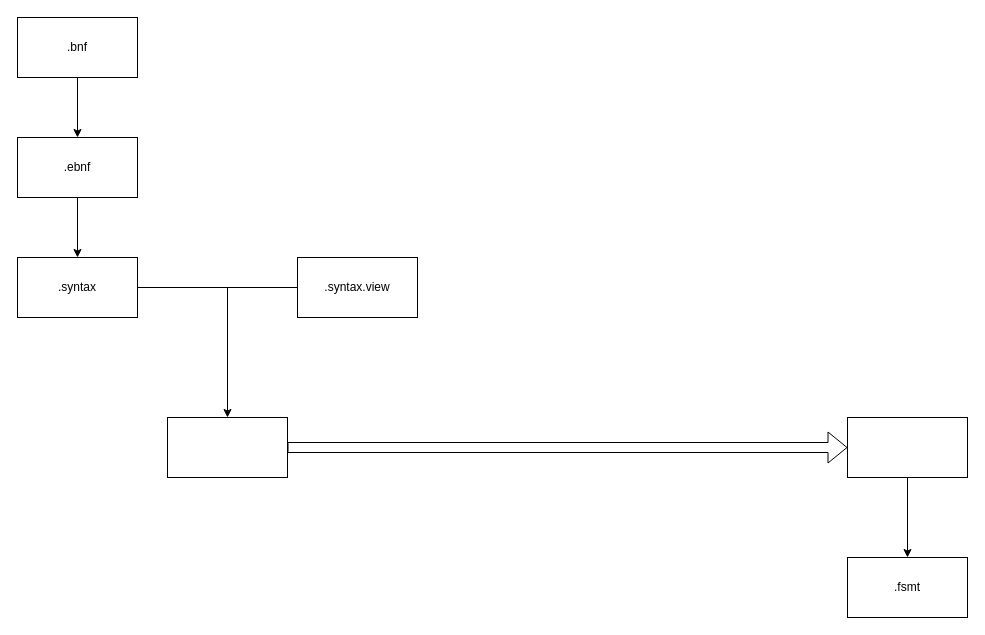
Some shapes in this 985 by 635 pixel diagram are drawn without their labels. The shapes that lost their labels are listed below. From the top down, each one's centre as x and y in pixels, then its label:
At point (227, 447): ".syntax.spec".
At point (907, 447): "fsm_table.txt".
